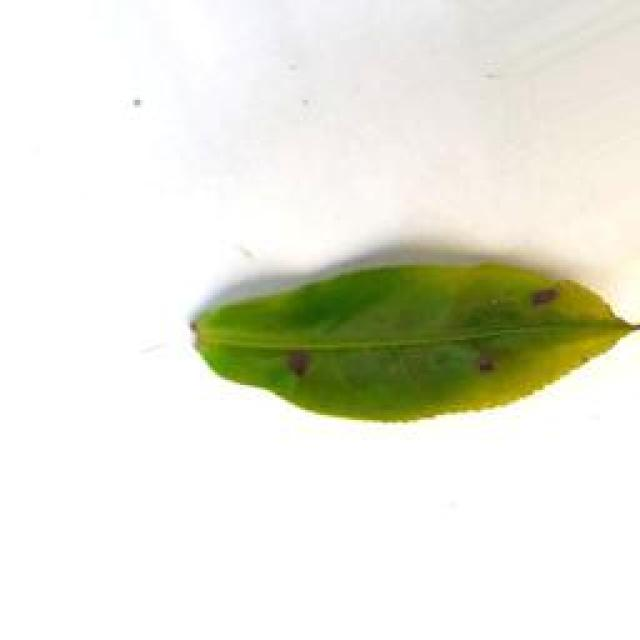Helopeltis: (185, 258, 640, 432)
